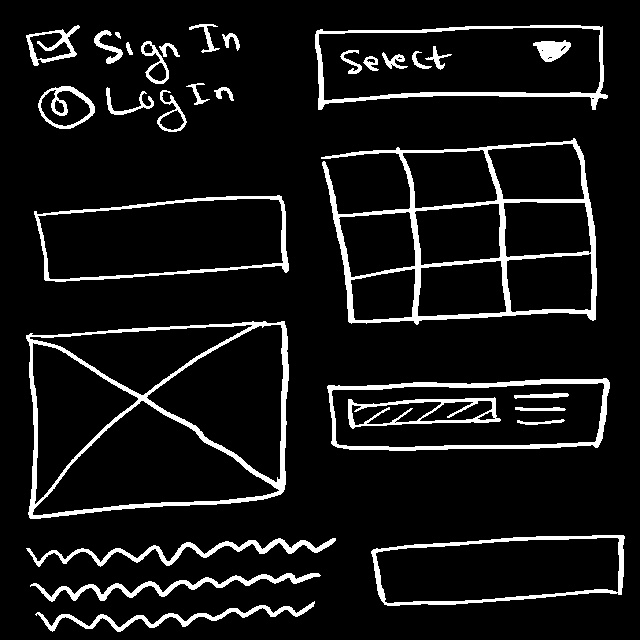checkbox: (23, 25, 90, 73)
image: (13, 325, 306, 523)
input: (23, 193, 311, 281), (370, 533, 635, 610)
navbar: (322, 366, 614, 459)
paragraph: (18, 540, 352, 633)
radio: (25, 82, 99, 135)
select: (303, 13, 615, 114)
table: (320, 141, 610, 325)
